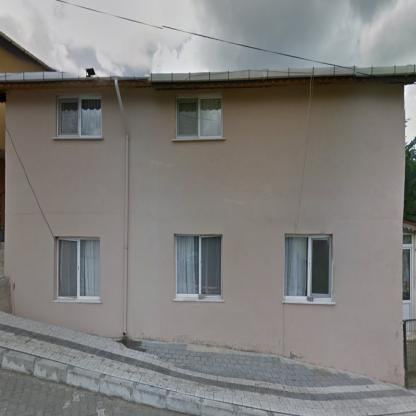door: (403, 233, 411, 333)
window: (56, 237, 102, 302), (174, 236, 221, 298), (283, 237, 330, 299), (173, 94, 224, 139), (57, 95, 102, 136)
